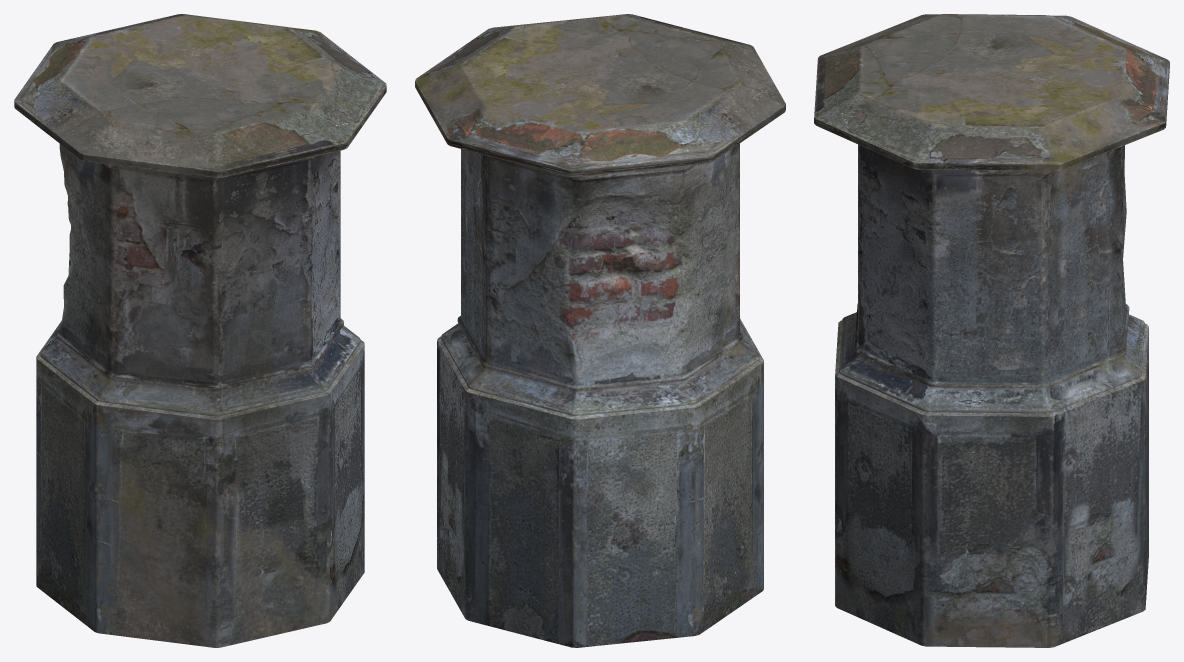
Rendered from SM_ChapelColumnPedestal_01_01.fbx.
3 renders of one model, left to right at view 1: azimuth 30°, elevation 25°; view 2: azimuth 150°, elevation 25°; view 3: azimuth 270°, elevation 25°, orthographic.
Parts seen in each view (by area): view 1: sm_ChapelColumnPedestal_01_01_LOD0; view 2: sm_ChapelColumnPedestal_01_01_LOD0; view 3: sm_ChapelColumnPedestal_01_01_LOD0.
Boxes of the visible parts, left/top/right/bottom form: sm_ChapelColumnPedestal_01_01_LOD0: left=14, top=14, right=386, bottom=647; sm_ChapelColumnPedestal_01_01_LOD0: left=415, top=14, right=785, bottom=647; sm_ChapelColumnPedestal_01_01_LOD0: left=814, top=14, right=1169, bottom=647.
Size of the model in its own units: 128 by 128 by 203.
